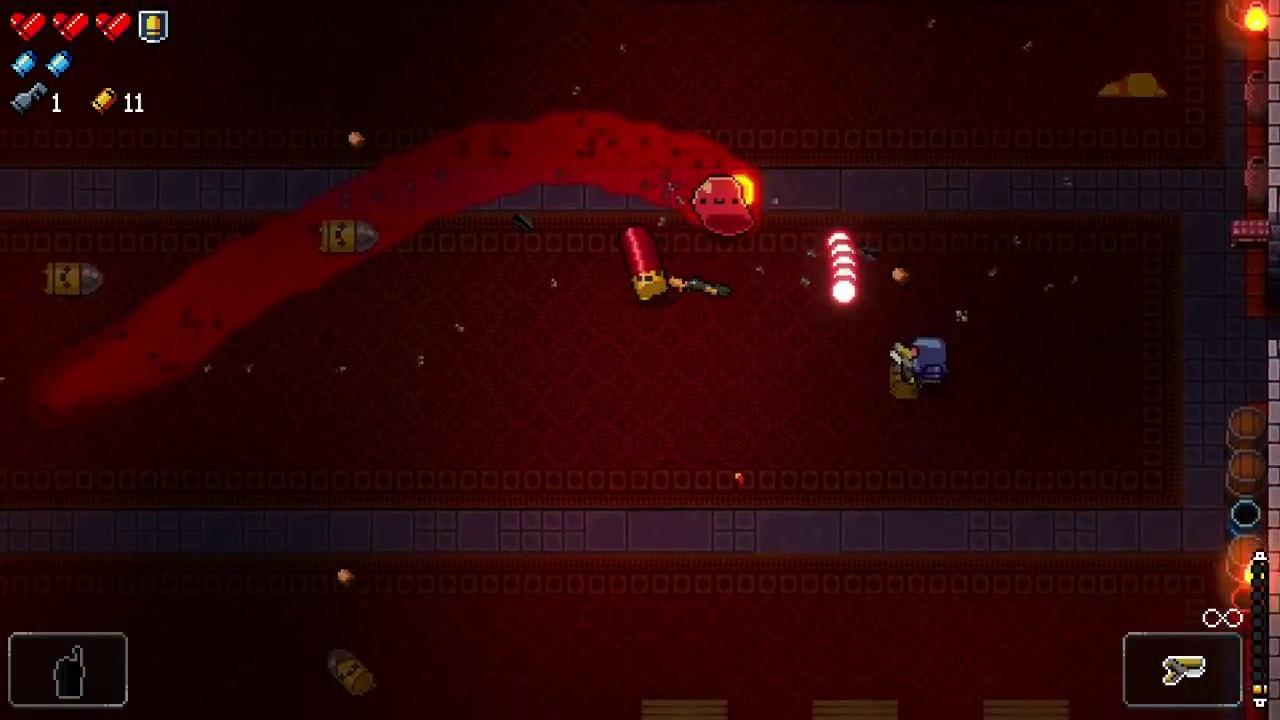blobulon_l: (691, 175, 754, 237)
bullet: (822, 227, 854, 258), (830, 275, 857, 307), (831, 263, 861, 288)
bullet_kin: (328, 650, 377, 697)
dead_apprentice_gunjurer: (1096, 72, 1170, 99)
dead_bullet_kin: (314, 219, 379, 251), (43, 264, 105, 295)
player: (910, 337, 949, 386)
red_shotgun_kin: (622, 226, 668, 303)
